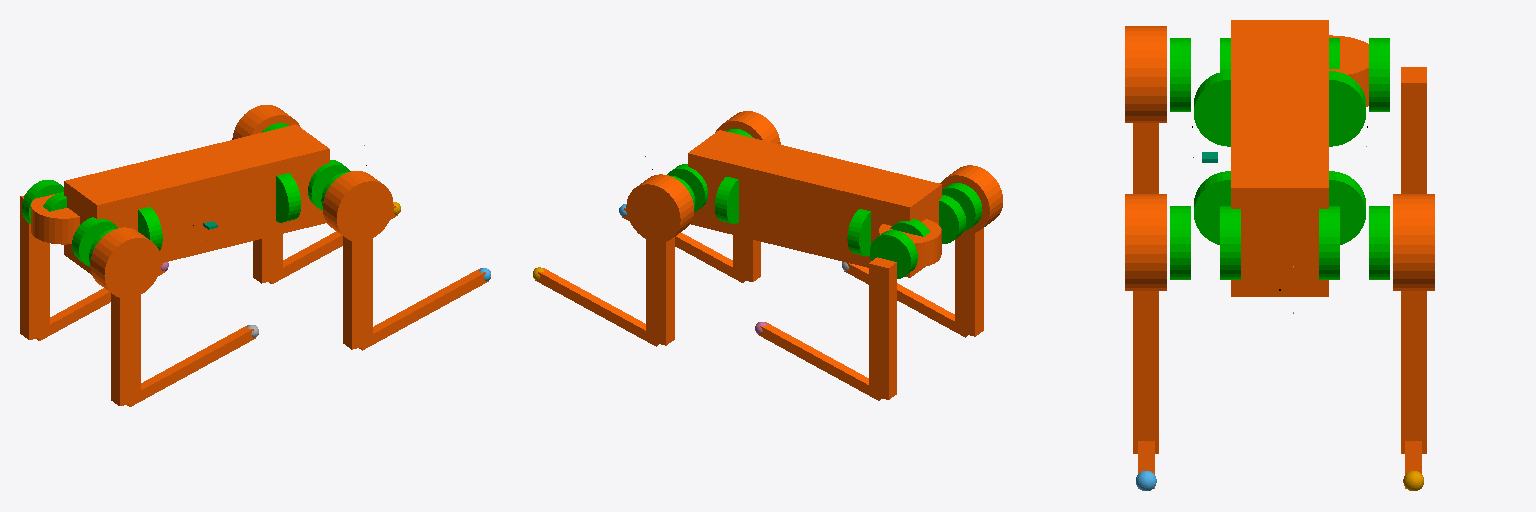
--- Facts derived from the render (not from the file) ---
The picture shows the robot from 3 angles, left to right: view 1: azimuth 30°, elevation 25°; view 2: azimuth 150°, elevation 25°; view 3: azimuth 270°, elevation 25°; orthographic projection.
Robot: robot — 46 links, 45 joints (12 revolute, 33 fixed); root link base; default pose: all joints at 0 but 4 set to mid-range because 0 is outside their limits (RF_KFE = -1.85, LF_KFE = -1.85, RH_KFE = -1.85, LH_KFE = -1.85).
Visible links, largest first — view 1: trunk, RR_hip, FR_hip, RL_thigh, FR_thigh, RR_thigh, FR_calf, RR_calf, RL_hip, FL_thigh, FL_hip, RL_calf (+6 smaller); view 2: trunk, RL_thigh, FL_hip, FL_thigh, RR_thigh, RL_calf, FL_calf, RR_hip, RL_calf_rotor, RR_calf, FR_thigh, RL_hip (+7 smaller); view 3: trunk, FR_hip, FL_hip, RR_hip, FR_thigh, FL_thigh, RL_thigh, RR_hip_rotor, RL_hip_rotor, RR_thigh, FR_hip_rotor, FL_hip_rotor (+9 smaller).
Boxes of the visible links, x1=… form: trunk: x1=64, y1=124, x2=329, y2=274; RR_hip: x1=90, y1=227, x2=160, y2=298; FR_hip: x1=323, y1=171, x2=393, y2=241; RL_thigh: x1=20, y1=195, x2=49, y2=339; FR_thigh: x1=343, y1=236, x2=372, y2=349; RR_thigh: x1=111, y1=293, x2=140, y2=405; FR_calf: x1=359, y1=268, x2=488, y2=350; RR_calf: x1=127, y1=325, x2=255, y2=406; RL_hip: x1=31, y1=193, x2=79, y2=244; FL_thigh: x1=253, y1=234, x2=282, y2=283; FL_hip: x1=232, y1=105, x2=299, y2=139; RL_calf: x1=37, y1=263, x2=165, y2=340; trunk: x1=688, y1=130, x2=941, y2=277; RL_thigh: x1=869, y1=257, x2=896, y2=399; FL_hip: x1=626, y1=174, x2=693, y2=242; FL_thigh: x1=646, y1=237, x2=674, y2=345; RR_thigh: x1=955, y1=228, x2=983, y2=336; RL_calf: x1=758, y1=322, x2=881, y2=400; FL_calf: x1=535, y1=268, x2=658, y2=346; RR_hip: x1=940, y1=165, x2=1002, y2=233; RL_calf_rotor: x1=870, y1=230, x2=917, y2=278; RR_calf: x1=844, y1=263, x2=967, y2=337; FR_thigh: x1=733, y1=235, x2=760, y2=281; RL_hip: x1=879, y1=219, x2=941, y2=267; trunk: x1=1231, y1=20, x2=1328, y2=296; FR_hip: x1=1125, y1=194, x2=1166, y2=290; FL_hip: x1=1393, y1=194, x2=1434, y2=290; RR_hip: x1=1125, y1=26, x2=1166, y2=122; FR_thigh: x1=1133, y1=291, x2=1158, y2=453; FL_thigh: x1=1401, y1=291, x2=1426, y2=453; RL_thigh: x1=1401, y1=67, x2=1426, y2=193; RR_hip_rotor: x1=1194, y1=71, x2=1230, y2=146; RL_hip_rotor: x1=1329, y1=71, x2=1365, y2=146; RR_thigh: x1=1133, y1=123, x2=1158, y2=193; FR_hip_rotor: x1=1194, y1=171, x2=1230, y2=244; FL_hip_rotor: x1=1329, y1=171, x2=1365, y2=244.
Bounding box of the posed robot: 0.6367 × 0.2935 × 0.2777 m (x, y, z).
Geometry: primitives only (box / cylinder / sphere), no mesh files.

The robot description file, URDF, robot "robot":
<?xml version="1.0" ?>
<!-- =================================================================================== -->
<!-- |    This document was autogenerated by xacro from [local-path]/test_ocs2_legged/src/legged_control/legged_examples/legged_unitree/go1_description/xacro/robot.xacro | -->
<!-- |    EDITING THIS FILE BY HAND IS NOT RECOMMENDED                                 | -->
<!-- =================================================================================== -->
<robot name="robot">
  <material name="black">
    <color rgba="0.0 0.0 0.0 1.0"/>
  </material>
  <material name="blue">
    <color rgba="0.0 0.0 0.8 1.0"/>
  </material>
  <material name="green">
    <color rgba="0.0 0.8 0.0 1.0"/>
  </material>
  <material name="grey">
    <color rgba="0.2 0.2 0.2 1.0"/>
  </material>
  <material name="silver">
    <color rgba="0.9137254901960784 0.9137254901960784 0.8470588235294118 1.0"/>
  </material>
  <material name="orange">
    <color rgba="1.0 0.4235294117647059 0.0392156862745098 1.0"/>
  </material>
  <material name="brown">
    <color rgba="0.8705882352941177 0.8117647058823529 0.7647058823529411 1.0"/>
  </material>
  <material name="red">
    <color rgba="0.8 0.0 0.0 1.0"/>
  </material>
  <material name="white">
    <color rgba="1.0 1.0 1.0 1.0"/>
  </material>
  <!-- ros_control plugin -->
  <gazebo>
    <plugin filename="liblegged_hw_sim.so" name="gazebo_ros_control">
      <robotNamespace>/</robotNamespace>
      <robotParam>legged_robot_description</robotParam>
      <robotSimType>legged_gazebo/LeggedHWSim</robotSimType>
    </plugin>
  </gazebo>
  <gazebo>
    <plugin filename="libgazebo_ros_p3d.so" name="p3d_base_controller">
      <alwaysOn>true</alwaysOn>
      <updateRate>1000.0</updateRate>
      <bodyName>base</bodyName>
      <topicName>ground_truth/state</topicName>
      <gaussianNoise>0</gaussianNoise>
      <frameName>world</frameName>
      <xyzOffsets>0 0 0</xyzOffsets>
      <rpyOffsets>0 0 0</rpyOffsets>
    </plugin>
  </gazebo>
  <gazebo reference="base">
    <material>Gazebo/Green</material>
    <turnGravityOff>false</turnGravityOff>
  </gazebo>
  <gazebo reference="trunk">
    <mu1>0.2</mu1>
    <mu2>0.2</mu2>
    <kp value="1000000.0"/>
    <kd value="1.0"/>
  </gazebo>
  <gazebo reference="stick_link">
    <mu1>0.2</mu1>
    <mu2>0.2</mu2>
    <material>Gazebo/White</material>
  </gazebo>
  <gazebo reference="unitree_imu">
    <mu1>0.2</mu1>
    <mu2>0.2</mu2>
    <material>Gazebo/Red</material>
  </gazebo>
  <!-- FL leg -->
  <gazebo reference="FL_hip">
    <mu1>0.2</mu1>
    <mu2>0.2</mu2>
    <material>Gazebo/DarkGrey</material>
  </gazebo>
  <gazebo reference="FL_thigh">
    <mu1>0.2</mu1>
    <mu2>0.2</mu2>
    <self_collide>1</self_collide>
    <material>Gazebo/DarkGrey</material>
    <kp value="1000000.0"/>
    <kd value="1.0"/>
  </gazebo>
  <gazebo reference="FL_calf">
    <mu1>0.2</mu1>
    <mu2>0.2</mu2>
    <self_collide>1</self_collide>
  </gazebo>
  <gazebo reference="LF_FOOT">
    <mu1>0.6</mu1>
    <mu2>0.6</mu2>
    <self_collide>1</self_collide>
    <material>Gazebo/DarkGrey</material>
    <kp value="1000000.0"/>
    <kd value="100.0"/>
  </gazebo>
  <!-- FR leg -->
  <gazebo reference="FR_hip">
    <mu1>0.2</mu1>
    <mu2>0.2</mu2>
    <material>Gazebo/DarkGrey</material>
  </gazebo>
  <gazebo reference="FR_thigh">
    <mu1>0.2</mu1>
    <mu2>0.2</mu2>
    <self_collide>1</self_collide>
    <material>Gazebo/DarkGrey</material>
    <kp value="1000000.0"/>
    <kd value="1.0"/>
  </gazebo>
  <gazebo reference="FR_calf">
    <mu1>0.2</mu1>
    <mu2>0.2</mu2>
    <self_collide>1</self_collide>
  </gazebo>
  <gazebo reference="RF_FOOT">
    <mu1>0.6</mu1>
    <mu2>0.6</mu2>
    <self_collide>1</self_collide>
    <material>Gazebo/DarkGrey</material>
    <kp value="1000000.0"/>
    <kd value="100.0"/>
  </gazebo>
  <!-- RL leg -->
  <gazebo reference="RL_hip">
    <mu1>0.2</mu1>
    <mu2>0.2</mu2>
    <material>Gazebo/DarkGrey</material>
  </gazebo>
  <gazebo reference="RL_thigh">
    <mu1>0.2</mu1>
    <mu2>0.2</mu2>
    <self_collide>1</self_collide>
    <material>Gazebo/DarkGrey</material>
    <kp value="1000000.0"/>
    <kd value="1.0"/>
  </gazebo>
  <gazebo reference="RL_calf">
    <mu1>0.2</mu1>
    <mu2>0.2</mu2>
    <self_collide>1</self_collide>
  </gazebo>
  <gazebo reference="LH_FOOT">
    <mu1>0.6</mu1>
    <mu2>0.6</mu2>
    <self_collide>1</self_collide>
    <material>Gazebo/DarkGrey</material>
    <kp value="1000000.0"/>
    <kd value="100.0"/>
  </gazebo>
  <!-- RR leg -->
  <gazebo reference="RR_hip">
    <mu1>0.2</mu1>
    <mu2>0.2</mu2>
    <material>Gazebo/DarkGrey</material>
  </gazebo>
  <gazebo reference="RR_thigh">
    <mu1>0.2</mu1>
    <mu2>0.2</mu2>
    <self_collide>1</self_collide>
    <material>Gazebo/DarkGrey</material>
    <kp value="1000000.0"/>
    <kd value="1.0"/>
  </gazebo>
  <gazebo reference="RR_calf">
    <mu1>0.2</mu1>
    <mu2>0.2</mu2>
    <self_collide>1</self_collide>
  </gazebo>
  <gazebo reference="RH_FOOT">
    <mu1>0.6</mu1>
    <mu2>0.6</mu2>
    <self_collide>1</self_collide>
    <material>Gazebo/DarkGrey</material>
    <kp value="1000000.0"/>
    <kd value="100.0"/>
  </gazebo>
  <!-- <xacro:include filename="$(find go1_gazebo)/launch/stairs.urdf.xacro"/> -->
  <!-- <xacro:stairs stairs="15" xpos="0" ypos="0" zpos="0" /> -->
  <!-- Rotor related joint and link is only for demonstrate location. -->
  <!-- Actually, the rotor will rotate and the joint is not fixed. Reduction ratio should be considered. -->
  <link name="base">
    <visual>
      <origin rpy="0 0 0" xyz="0 0 0"/>
      <geometry>
        <box size="0.001 0.001 0.001"/>
      </geometry>
    </visual>
  </link>
  <joint name="floating_base" type="fixed">
    <origin rpy="0 0 0" xyz="0 0 0"/>
    <parent link="base"/>
    <child link="trunk"/>
  </joint>
  <link name="trunk">
    <visual>
      <origin rpy="0 0 0" xyz="0 0 0"/>
      <geometry>
        <!-- <mesh filename="package://go1_description/meshes/trunk.dae" scale="1 1 1"/> -->
        <box size="0.3762 0.0935 0.114"/>
      </geometry>
      <material name="orange"/>
    </visual>
    <collision>
      <origin rpy="0 0 0" xyz="0 0 0"/>
      <geometry>
        <box size="0.3762 0.0935 0.114"/>
      </geometry>
    </collision>
    <inertial>
      <origin rpy="0 0 0" xyz="0.0223 0.002 -0.0005"/>
      <mass value="5.204"/>
      <inertia ixx="0.0168128557" ixy="-0.0002296769" ixz="-0.0002945293" iyy="0.063009565" iyz="-4.18731e-05" izz="0.0716547275"/>
    </inertial>
  </link>
  <joint name="unitree_imu_joint" type="fixed">
    <parent link="trunk"/>
    <child link="unitree_imu"/>
    <origin rpy="0 0 0" xyz="-0.01592 -0.06659 -0.00617"/>
  </joint>
  <link name="unitree_imu">
    <inertial>
      <mass value="0.001"/>
      <origin rpy="0 0 0" xyz="0 0 0"/>
      <inertia ixx="0.000001" ixy="0" ixz="0" iyy="0.000001" iyz="0" izz="0.000001"/>
    </inertial>
    <visual>
      <origin rpy="0 0 0" xyz="0 0 0"/>
      <geometry>
        <box size="0.015 0.015 0.004"/>
      </geometry>
    </visual>
    <material name="orange">
      <color rgba="255 108 10 255"/>
    </material>
  </link>
  <gazebo reference="unitree_imu">
    <material>Gazebo/Orange</material>
  </gazebo>
  <gazebo reference="unitree_imu_joint">
    <disableFixedJointLumping>true</disableFixedJointLumping>
  </gazebo>
  <joint name="RF_HAA" type="revolute">
    <origin rpy="0 0 0" xyz="0.1881 -0.04675 0"/>
    <parent link="trunk"/>
    <child link="FR_hip"/>
    <axis xyz="1 0 0"/>
    <dynamics damping="0.01" friction="0.2"/>
    <limit effort="23.7" lower="-0.863" upper="0.863" velocity="30.1"/>
  </joint>
  <joint name="FR_hip_rotor_joint" type="fixed">
    <origin rpy="0 0 0" xyz="0.11215 -0.04675 0"/>
    <parent link="trunk"/>
    <child link="FR_hip_rotor"/>
  </joint>
  <link name="FR_hip">
    <visual>
      <!-- <origin rpy="3.141592653589793 0 0" xyz="0 0 0"/> -->
      <origin rpy="1.5707963267948966 0 0" xyz="0 -0.08 0"/>
      <geometry>
        <!-- <mesh filename="package://go1_description/meshes/hip.dae" scale="1 1 1"/> -->
        <cylinder length="0.04" radius="0.046"/>
      </geometry>
      <material name="orange"/>
    </visual>
    <collision>
      <origin rpy="1.5707963267948966 0 0" xyz="0 -0.08 0"/>
      <geometry>
        <cylinder length="0.04" radius="0.046"/>
      </geometry>
    </collision>
    <inertial>
      <origin rpy="0 0 0" xyz="-0.005657 0.008752 -0.000102"/>
      <mass value="0.591"/>
      <inertia ixx="0.000334008405" ixy="1.0826066e-05" ixz="1.290732e-06" iyy="0.000619101213" iyz="-1.643194e-06" izz="0.00040057614"/>
    </inertial>
  </link>
  <link name="FR_hip_rotor">
    <visual>
      <origin rpy="0 1.5707963267948966 0" xyz="0 0 0"/>
      <geometry>
        <cylinder length="0.02" radius="0.035"/>
      </geometry>
      <material name="green"/>
    </visual>
    <!-- <collision>
                <origin rpy="0 ${PI/2.0} 0" xyz="0 0 0"/>
                <geometry>
                    <cylinder length="0.02" radius="0.035"/>
                </geometry>
            </collision> -->
    <inertial>
      <origin rpy="0 0 0" xyz="0.0 0.0 0.0"/>
      <mass value="0.089"/>
      <inertia ixx="0.000111842" ixy="0.0" ixz="0.0" iyy="5.9647e-05" iyz="0.0" izz="5.9647e-05"/>
    </inertial>
  </link>
  <joint name="RF_HFE" type="revolute">
    <origin rpy="0 0 0" xyz="0 -0.08 0"/>
    <parent link="FR_hip"/>
    <child link="FR_thigh"/>
    <axis xyz="0 1 0"/>
    <dynamics damping="0.01" friction="0.2"/>
    <limit effort="23.7" lower="-0.686" upper="4.501" velocity="30.1"/>
  </joint>
  <joint name="FR_thigh_rotor_joint" type="fixed">
    <origin rpy="0 0 0" xyz="0.0 0.00015 0"/>
    <parent link="FR_hip"/>
    <child link="FR_thigh_rotor"/>
  </joint>
  <link name="FR_thigh">
    <visual>
      <!-- <origin rpy="0 0 0" xyz="0 0 0"/> -->
      <origin rpy="0 1.5707963267948966 0" xyz="0 0 -0.1065"/>
      <geometry>
        <!-- <mesh filename="package://go1_description/meshes/thigh_mirror.dae" scale="1 1 1"/> -->
        <box size="0.213 0.0245 0.034"/>
      </geometry>
      <material name="orange"/>
    </visual>
    <collision>
      <origin rpy="0 1.5707963267948966 0" xyz="0 0 -0.1065"/>
      <geometry>
        <box size="0.213 0.0245 0.034"/>
      </geometry>
    </collision>
    <inertial>
      <origin rpy="0 0 0" xyz="-0.003342 0.018054 -0.033451"/>
      <mass value="0.92"/>
      <inertia ixx="0.004431760472" ixy="-5.7496807e-05" ixz="-0.000218457134" iyy="0.004485671726" iyz="-0.000572001265" izz="0.000740309489"/>
    </inertial>
  </link>
  <link name="FR_thigh_rotor">
    <visual>
      <origin rpy="1.5707963267948966 0 0" xyz="0 0 0"/>
      <geometry>
        <cylinder length="0.02" radius="0.035"/>
      </geometry>
      <material name="green"/>
    </visual>
    <!-- <collision>
                <origin rpy="${PI/2.0} 0 0" xyz="0 0 0"/>
                <geometry>
                    <cylinder length="0.02" radius="0.035"/>
                </geometry>
            </collision> -->
    <inertial>
      <origin rpy="0 0 0" xyz="0.0 0.0 0.0"/>
      <mass value="0.089"/>
      <inertia ixx="5.9647e-05" ixy="0.0" ixz="0.0" iyy="0.000111842" iyz="0.0" izz="5.9647e-05"/>
    </inertial>
  </link>
  <joint name="RF_KFE" type="revolute">
    <origin rpy="0 0 0" xyz="0 0 -0.213"/>
    <parent link="FR_thigh"/>
    <child link="FR_calf"/>
    <axis xyz="0 1 0"/>
    <dynamics damping="0.01" friction="0.2"/>
    <limit effort="35.55" lower="-2.818" upper="-0.888" velocity="20.06"/>
  </joint>
  <joint name="FR_calf_rotor_joint" type="fixed">
    <origin rpy="0 0 0" xyz="0.0 0.03235 0"/>
    <parent link="FR_thigh"/>
    <child link="FR_calf_rotor"/>
  </joint>
  <link name="FR_calf">
    <visual>
      <!-- <origin rpy="0 0 0" xyz="0 0 0"/> -->
      <origin rpy="0 1.5707963267948966 0" xyz="0 0 -0.1065"/>
      <geometry>
        <!-- <mesh filename="package://go1_description/meshes/calf.dae" scale="1 1 1"/> -->
        <box size="0.213 0.016 0.016"/>
      </geometry>
      <material name="orange"/>
    </visual>
    <collision>
      <origin rpy="0 1.5707963267948966 0" xyz="0 0 -0.1065"/>
      <geometry>
        <box size="0.213 0.016 0.016"/>
      </geometry>
    </collision>
    <inertial>
      <origin rpy="0 0 0" xyz="0.006197 0.001408 -0.116695"/>
      <mass value="0.135862"/>
      <inertia ixx="0.001088793059" ixy="-2.55679e-07" ixz="7.117814e-06" iyy="0.001100428748" iyz="2.077264e-06" izz="2.4787446e-05"/>
    </inertial>
  </link>
  <link name="FR_calf_rotor">
    <visual>
      <origin rpy="1.5707963267948966 0 0" xyz="0 0 0"/>
      <geometry>
        <cylinder length="0.02" radius="0.035"/>
      </geometry>
      <material name="green"/>
    </visual>
    <!-- <collision>
                <origin rpy="${PI/2.0} 0 0" xyz="0 0 0"/>
                <geometry>
                    <cylinder length="0.02" radius="0.035"/>
                </geometry>
            </collision> -->
    <inertial>
      <origin rpy="0 0 0" xyz="0.0 0.0 0.0"/>
      <mass value="0.089"/>
      <inertia ixx="5.9647e-05" ixy="0.0" ixz="0.0" iyy="0.000111842" iyz="0.0" izz="5.9647e-05"/>
    </inertial>
  </link>
  <joint name="FR_foot_fixed" type="fixed">
    <origin rpy="0 0 0" xyz="0 0 -0.213"/>
    <parent link="FR_calf"/>
    <child link="RF_FOOT"/>
  </joint>
  <link name="RF_FOOT">
    <visual>
      <origin rpy="0 0 0" xyz="0 0 0"/>
      <geometry>
        <sphere radius="0.01"/>
      </geometry>
      <!-- <material name="orange"/> -->
    </visual>
    <collision>
      <origin rpy="0 0 0" xyz="0 0 0"/>
      <geometry>
        <sphere radius="0.02"/>
      </geometry>
    </collision>
    <inertial>
      <mass value="0.06"/>
      <inertia ixx="9.600000000000001e-06" ixy="0.0" ixz="0.0" iyy="9.600000000000001e-06" iyz="0.0" izz="9.600000000000001e-06"/>
    </inertial>
  </link>
  <transmission name="RF_HAA_tran">
    <type>transmission_interface/SimpleTransmission</type>
    <joint name="RF_HAA">
      <hardwareInterface>hardware_interface/EffortJointInterface</hardwareInterface>
    </joint>
    <actuator name="RF_HAA_motor">
      <hardwareInterface>hardware_interface/EffortJointInterface</hardwareInterface>
      <mechanicalReduction>1</mechanicalReduction>
    </actuator>
  </transmission>
  <transmission name="RF_HFE_tran">
    <type>transmission_interface/SimpleTransmission</type>
    <joint name="RF_HFE">
      <hardwareInterface>hardware_interface/EffortJointInterface</hardwareInterface>
    </joint>
    <actuator name="RF_HFE_motor">
      <hardwareInterface>hardware_interface/EffortJointInterface</hardwareInterface>
      <mechanicalReduction>1</mechanicalReduction>
    </actuator>
  </transmission>
  <transmission name="RF_KFE_tran">
    <type>transmission_interface/SimpleTransmission</type>
    <joint name="RF_KFE">
      <hardwareInterface>hardware_interface/EffortJointInterface</hardwareInterface>
    </joint>
    <actuator name="RF_KFE_motor">
      <hardwareInterface>hardware_interface/EffortJointInterface</hardwareInterface>
      <mechanicalReduction>1</mechanicalReduction>
    </actuator>
  </transmission>
  <joint name="LF_HAA" type="revolute">
    <origin rpy="0 0 0" xyz="0.1881 0.04675 0"/>
    <parent link="trunk"/>
    <child link="FL_hip"/>
    <axis xyz="1 0 0"/>
    <dynamics damping="0.01" friction="0.2"/>
    <limit effort="23.7" lower="-0.863" upper="0.863" velocity="30.1"/>
  </joint>
  <joint name="FL_hip_rotor_joint" type="fixed">
    <origin rpy="0 0 0" xyz="0.11215 0.04675 0"/>
    <parent link="trunk"/>
    <child link="FL_hip_rotor"/>
  </joint>
  <link name="FL_hip">
    <visual>
      <!-- <origin rpy="0 0 0" xyz="0 0 0"/> -->
      <origin rpy="1.5707963267948966 0 0" xyz="0 0.08 0"/>
      <geometry>
        <!-- <mesh filename="package://go1_description/meshes/hip.dae" scale="1 1 1"/> -->
        <cylinder length="0.04" radius="0.046"/>
      </geometry>
      <material name="orange"/>
    </visual>
    <collision>
      <origin rpy="1.5707963267948966 0 0" xyz="0 0.08 0"/>
      <geometry>
        <cylinder length="0.04" radius="0.046"/>
      </geometry>
    </collision>
    <inertial>
      <origin rpy="0 0 0" xyz="-0.005657 -0.008752 -0.000102"/>
      <mass value="0.591"/>
      <inertia ixx="0.000334008405" ixy="-1.0826066e-05" ixz="1.290732e-06" iyy="0.000619101213" iyz="1.643194e-06" izz="0.00040057614"/>
    </inertial>
  </link>
  <link name="FL_hip_rotor">
    <visual>
      <origin rpy="0 1.5707963267948966 0" xyz="0 0 0"/>
      <geometry>
        <cylinder length="0.02" radius="0.035"/>
      </geometry>
      <material name="green"/>
    </visual>
    <!-- <collision>
                <origin rpy="0 ${PI/2.0} 0" xyz="0 0 0"/>
                <geometry>
                    <cylinder length="0.02" radius="0.035"/>
                </geometry>
            </collision> -->
    <inertial>
      <origin rpy="0 0 0" xyz="0.0 0.0 0.0"/>
      <mass value="0.089"/>
      <inertia ixx="0.000111842" ixy="0.0" ixz="0.0" iyy="5.9647e-05" iyz="0.0" izz="5.9647e-05"/>
    </inertial>
  </link>
  <joint name="LF_HFE" type="revolute">
    <origin rpy="0 0 0" xyz="0 0.08 0"/>
    <parent link="FL_hip"/>
    <child link="FL_thigh"/>
    <axis xyz="0 1 0"/>
    <dynamics damping="0.01" friction="0.2"/>
    <limit effort="23.7" lower="-0.686" upper="4.501" velocity="30.1"/>
  </joint>
  <joint name="FL_thigh_rotor_joint" type="fixed">
    <origin rpy="0 0 0" xyz="0.0 -0.00015 0"/>
    <parent link="FL_hip"/>
    <child link="FL_thigh_rotor"/>
  </joint>
  <link name="FL_thigh">
    <visual>
      <!-- <origin rpy="0 0 0" xyz="0 0 0"/> -->
      <origin rpy="0 1.5707963267948966 0" xyz="0 0 -0.1065"/>
      <geometry>
        <!-- <mesh filename="package://go1_description/meshes/thigh.dae" scale="1 1 1"/> -->
        <box size="0.213 0.0245 0.034"/>
      </geometry>
      <material name="orange"/>
    </visual>
    <collision>
      <origin rpy="0 1.5707963267948966 0" xyz="0 0 -0.1065"/>
      <geometry>
        <box size="0.213 0.0245 0.034"/>
      </geometry>
    </collision>
    <inertial>
      <origin rpy="0 0 0" xyz="-0.003342 -0.018054 -0.033451"/>
      <mass value="0.92"/>
      <inertia ixx="0.004431760472" ixy="5.7496807e-05" ixz="-0.000218457134" iyy="0.004485671726" iyz="0.000572001265" izz="0.000740309489"/>
    </inertial>
  </link>
  <link name="FL_thigh_rotor">
    <visual>
      <origin rpy="1.5707963267948966 0 0" xyz="0 0 0"/>
      <geometry>
        <cylinder length="0.02" radius="0.035"/>
      </geometry>
      <material name="green"/>
    </visual>
    <!-- <collision>
                <origin rpy="${PI/2.0} 0 0" xyz="0 0 0"/>
                <geometry>
                    <cylinder length="0.02" radius="0.035"/>
                </geometry>
            </collision> -->
    <inertial>
      <origin rpy="0 0 0" xyz="0.0 0.0 0.0"/>
      <mass value="0.089"/>
      <inertia ixx="5.9647e-05" ixy="0.0" ixz="0.0" iyy="0.000111842" iyz="0.0" izz="5.9647e-05"/>
    </inertial>
  </link>
  <joint name="LF_KFE" type="revolute">
    <origin rpy="0 0 0" xyz="0 0 -0.213"/>
    <parent link="FL_thigh"/>
    <child link="FL_calf"/>
    <axis xyz="0 1 0"/>
    <dynamics damping="0.01" friction="0.2"/>
    <limit effort="35.55" lower="-2.818" upper="-0.888" velocity="20.06"/>
  </joint>
  <joint name="FL_calf_rotor_joint" type="fixed">
    <origin rpy="0 0 0" xyz="0.0 -0.03235 0"/>
    <parent link="FL_thigh"/>
    <child link="FL_calf_rotor"/>
  </joint>
  <link name="FL_calf">
    <visual>
      <!-- <origin rpy="0 0 0" xyz="0 0 0"/> -->
      <origin rpy="0 1.5707963267948966 0" xyz="0 0 -0.1065"/>
      <geometry>
        <!-- <mesh filename="package://go1_description/meshes/calf.dae" scale="1 1 1"/> -->
        <box size="0.213 0.016 0.016"/>
      </geometry>
      <material name="orange"/>
    </visual>
    <collision>
      <origin rpy="0 1.5707963267948966 0" xyz="0 0 -0.1065"/>
      <geometry>
        <box size="0.213 0.016 0.016"/>
      </geometry>
    </collision>
    <inertial>
      <origin rpy="0 0 0" xyz="0.006197 0.001408 -0.116695"/>
      <mass value="0.135862"/>
      <inertia ixx="0.001088793059" ixy="-2.55679e-07" ixz="7.117814e-06" iyy="0.001100428748" iyz="2.077264e-06" izz="2.4787446e-05"/>
    </inertial>
  </link>
  <link name="FL_calf_rotor">
    <visual>
      <origin rpy="1.5707963267948966 0 0" xyz="0 0 0"/>
      <geometry>
        <cylinder length="0.02" radius="0.035"/>
      </geometry>
      <material name="green"/>
    </visual>
    <!-- <collision>
                <origin rpy="${PI/2.0} 0 0" xyz="0 0 0"/>
                <geometry>
                    <cylinder length="0.02" radius="0.035"/>
                </geometry>
            </collision> -->
    <inertial>
      <origin rpy="0 0 0" xyz="0.0 0.0 0.0"/>
      <mass value="0.089"/>
      <inertia ixx="5.9647e-05" ixy="0.0" ixz="0.0" iyy="0.000111842" iyz="0.0" izz="5.9647e-05"/>
    </inertial>
  </link>
  <joint name="FL_foot_fixed" type="fixed">
    <origin rpy="0 0 0" xyz="0 0 -0.213"/>
    <parent link="FL_calf"/>
    <child link="LF_FOOT"/>
  </joint>
  <link name="LF_FOOT">
    <visual>
      <origin rpy="0 0 0" xyz="0 0 0"/>
      <geometry>
        <sphere radius="0.01"/>
      </geometry>
      <!-- <material name="orange"/> -->
    </visual>
    <collision>
      <origin rpy="0 0 0" xyz="0 0 0"/>
      <geometry>
        <sphere radius="0.02"/>
      </geometry>
    </collision>
    <inertial>
      <mass value="0.06"/>
      <inertia ixx="9.600000000000001e-06" ixy="0.0" ixz="0.0" iyy="9.600000000000001e-06" iyz="0.0" izz="9.600000000000001e-06"/>
    </inertial>
  </link>
  <transmission name="LF_HAA_tran">
    <type>transmission_interface/SimpleTransmission</type>
    <joint name="LF_HAA">
      <hardwareInterface>hardware_interface/EffortJointInterface</hardwareInterface>
    </joint>
    <actuator name="LF_HAA_motor">
      <hardwareInterface>hardware_interface/EffortJointInterface</hardwareInterface>
      <mechanicalReduction>1</mechanicalReduction>
    </actuator>
  </transmission>
  <transmission name="LF_HFE_tran">
    <type>transmission_interface/SimpleTransmission</type>
    <joint name="LF_HFE">
      <hardwareInterface>hardware_interface/EffortJointInterface</hardwareInterface>
    </joint>
    <actuator name="LF_HFE_motor">
      <hardwareInterface>hardware_interface/EffortJointInterface</hardwareInterface>
      <mechanicalReduction>1</mechanicalReduction>
    </actuator>
  </transmission>
  <transmission name="LF_KFE_tran">
    <type>transmission_interface/SimpleTransmission</type>
    <joint name="LF_KFE">
      <hardwareInterface>hardware_interface/EffortJointInterface</hardwareInterface>
    </joint>
    <actuator name="LF_KFE_motor">
      <hardwareInterface>hardware_interface/EffortJointInterface</hardwareInterface>
      <mechanicalReduction>1</mechanicalReduction>
    </actuator>
  </transmission>
  <joint name="RH_HAA" type="revolute">
    <origin rpy="0 0 0" xyz="-0.1881 -0.04675 0"/>
    <parent link="trunk"/>
    <child link="RR_hip"/>
    <axis xyz="1 0 0"/>
    <dynamics damping="0.01" friction="0.2"/>
    <limit effort="23.7" lower="-0.863" upper="0.863" velocity="30.1"/>
  </joint>
  <joint name="RR_hip_rotor_joint" type="fixed">
    <origin rpy="0 0 0" xyz="-0.11215 -0.04675 0"/>
    <parent link="trunk"/>
    <child link="RR_hip_rotor"/>
  </joint>
  <link name="RR_hip">
    <visual>
      <!-- <origin rpy="3.141592653589793 3.141592653589793 0" xyz="0 0 0"/> -->
      <origin rpy="1.5707963267948966 0 0" xyz="0 -0.08 0"/>
      <geometry>
        <!-- <mesh filename="package://go1_description/meshes/hip.dae" scale="1 1 1"/> -->
        <cylinder length="0.04" radius="0.046"/>
      </geometry>
      <material name="orange"/>
    </visual>
    <collision>
      <origin rpy="1.5707963267948966 0 0" xyz="0 -0.08 0"/>
      <geometry>
        <cylinder length="0.04" radius="0.046"/>
      </geometry>
    </collision>
    <inertial>
      <origin rpy="0 0 0" xyz="0.005657 0.008752 -0.000102"/>
      <mass value="0.591"/>
      <inertia ixx="0.000334008405" ixy="-1.0826066e-05" ixz="-1.290732e-06" iyy="0.000619101213" iyz="-1.643194e-06" izz="0.00040057614"/>
    </inertial>
  </link>
  <link name="RR_hip_rotor">
    <visual>
      <origin rpy="0 1.5707963267948966 0" xyz="0 0 0"/>
      <geometry>
        <cylinder length="0.02" radius="0.035"/>
      </geometry>
      <material name="green"/>
    </visual>
    <!-- <collision>
                <origin rpy="0 ${PI/2.0} 0" xyz="0 0 0"/>
                <geometry>
                    <cylinder length="0.02" radius="0.035"/>
                </geometry>
            </collision> -->
    <inertial>
      <origin rpy="0 0 0" xyz="0.0 0.0 0.0"/>
      <mass value="0.089"/>
      <inertia ixx="0.000111842" ixy="0.0" ixz="0.0" iyy="5.9647e-05" iyz="0.0" izz="5.9647e-05"/>
    </inertial>
  </link>
  <joint name="RH_HFE" type="revolute">
    <origin rpy="0 0 0" xyz="0 -0.08 0"/>
    <parent link="RR_hip"/>
    <child link="RR_thigh"/>
    <axis xyz="0 1 0"/>
    <dynamics damping="0.01" friction="0.2"/>
    <limit effort="23.7" lower="-0.686" upper="4.501" velocity="30.1"/>
  </joint>
  <joint name="RR_thigh_rotor_joint" type="fixed">
    <origin rpy="0 0 0" xyz="0.0 0.00015 0"/>
    <parent link="RR_hip"/>
    <child link="RR_thigh_rotor"/>
  </joint>
  <link name="RR_thigh">
    <visual>
      <!-- <origin rpy="0 0 0" xyz="0 0 0"/> -->
      <origin rpy="0 1.5707963267948966 0" xyz="0 0 -0.1065"/>
      <geometry>
        <!-- <mesh filename="package://go1_description/meshes/thigh_mirror.dae" scale="1 1 1"/> -->
        <box size="0.213 0.0245 0.034"/>
      </geometry>
      <material name="orange"/>
    </visual>
    <collision>
      <origin rpy="0 1.5707963267948966 0" xyz="0 0 -0.1065"/>
      <geometry>
        <box size="0.213 0.0245 0.034"/>
      </geometry>
    </collision>
    <inertial>
      <origin rpy="0 0 0" xyz="-0.003342 0.018054 -0.033451"/>
      <mass value="0.92"/>
      <inertia ixx="0.004431760472" ixy="-5.7496807e-05" ixz="-0.000218457134" iyy="0.004485671726" iyz="-0.000572001265" izz="0.000740309489"/>
    </inertial>
  </link>
  <link name="RR_thigh_rotor">
    <visual>
      <origin rpy="1.5707963267948966 0 0" xyz="0 0 0"/>
      <geometry>
        <cylinder length="0.02" radius="0.035"/>
      </geometry>
      <material name="green"/>
    </visual>
    <!-- <collision>
                <origin rpy="${PI/2.0} 0 0" xyz="0 0 0"/>
                <geometry>
                    <cylinder length="0.02" radius="0.035"/>
                </geometry>
            </collision> -->
    <inertial>
      <origin rpy="0 0 0" xyz="0.0 0.0 0.0"/>
      <mass value="0.089"/>
      <inertia ixx="5.9647e-05" ixy="0.0" ixz="0.0" iyy="0.000111842" iyz="0.0" izz="5.9647e-05"/>
    </inertial>
  </link>
  <joint name="RH_KFE" type="revolute">
    <origin rpy="0 0 0" xyz="0 0 -0.213"/>
    <parent link="RR_thigh"/>
    <child link="RR_calf"/>
    <axis xyz="0 1 0"/>
    <dynamics damping="0.01" friction="0.2"/>
    <limit effort="35.55" lower="-2.818" upper="-0.888" velocity="20.06"/>
  </joint>
  <joint name="RR_calf_rotor_joint" type="fixed">
    <origin rpy="0 0 0" xyz="0.0 0.03235 0"/>
    <parent link="RR_thigh"/>
    <child link="RR_calf_rotor"/>
  </joint>
  <link name="RR_calf">
    <visual>
      <!-- <origin rpy="0 0 0" xyz="0 0 0"/> -->
      <origin rpy="0 1.5707963267948966 0" xyz="0 0 -0.1065"/>
      <geometry>
        <!-- <mesh filename="package://go1_description/meshes/calf.dae" scale="1 1 1"/> -->
        <box size="0.213 0.016 0.016"/>
      </geometry>
      <material name="orange"/>
    </visual>
    <collision>
      <origin rpy="0 1.5707963267948966 0" xyz="0 0 -0.1065"/>
      <geometry>
        <box size="0.213 0.016 0.016"/>
      </geometry>
    </collision>
    <inertial>
      <origin rpy="0 0 0" xyz="0.006197 0.001408 -0.116695"/>
      <mass value="0.135862"/>
      <inertia ixx="0.001088793059" ixy="-2.55679e-07" ixz="7.117814e-06" iyy="0.001100428748" iyz="2.077264e-06" izz="2.4787446e-05"/>
    </inertial>
  </link>
  <link name="RR_calf_rotor">
    <visual>
      <origin rpy="1.5707963267948966 0 0" xyz="0 0 0"/>
      <geometry>
        <cylinder length="0.02" radius="0.035"/>
      </geometry>
      <material name="green"/>
    </visual>
    <!-- <collision>
                <origin rpy="${PI/2.0} 0 0" xyz="0 0 0"/>
                <geometry>
                    <cylinder length="0.02" radius="0.035"/>
                </geometry>
            </collision> -->
    <inertial>
      <origin rpy="0 0 0" xyz="0.0 0.0 0.0"/>
      <mass value="0.089"/>
      <inertia ixx="5.9647e-05" ixy="0.0" ixz="0.0" iyy="0.000111842" iyz="0.0" izz="5.9647e-05"/>
    </inertial>
  </link>
  <joint name="RR_foot_fixed" type="fixed">
    <origin rpy="0 0 0" xyz="0 0 -0.213"/>
    <parent link="RR_calf"/>
    <child link="RH_FOOT"/>
  </joint>
  <link name="RH_FOOT">
    <visual>
      <origin rpy="0 0 0" xyz="0 0 0"/>
      <geometry>
        <sphere radius="0.01"/>
      </geometry>
      <!-- <material name="orange"/> -->
    </visual>
    <collision>
      <origin rpy="0 0 0" xyz="0 0 0"/>
      <geometry>
        <sphere radius="0.02"/>
      </geometry>
    </collision>
    <inertial>
      <mass value="0.06"/>
      <inertia ixx="9.600000000000001e-06" ixy="0.0" ixz="0.0" iyy="9.600000000000001e-06" iyz="0.0" izz="9.600000000000001e-06"/>
    </inertial>
  </link>
  <transmission name="RH_HAA_tran">
    <type>transmission_interface/SimpleTransmission</type>
    <joint name="RH_HAA">
      <hardwareInterface>hardware_interface/EffortJointInterface</hardwareInterface>
    </joint>
    <actuator name="RH_HAA_motor">
      <hardwareInterface>hardware_interface/EffortJointInterface</hardwareInterface>
      <mechanicalReduction>1</mechanicalReduction>
    </actuator>
  </transmission>
  <transmission name="RH_HFE_tran">
    <type>transmission_interface/SimpleTransmission</type>
    <joint name="RH_HFE">
      <hardwareInterface>hardware_interface/EffortJointInterface</hardwareInterface>
    </joint>
    <actuator name="RH_HFE_motor">
      <hardwareInterface>hardware_interface/EffortJointInterface</hardwareInterface>
      <mechanicalReduction>1</mechanicalReduction>
    </actuator>
  </transmission>
  <transmission name="RH_KFE_tran">
    <type>transmission_interface/SimpleTransmission</type>
    <joint name="RH_KFE">
      <hardwareInterface>hardware_interface/EffortJointInterface</hardwareInterface>
    </joint>
    <actuator name="RH_KFE_motor">
      <hardwareInterface>hardware_interface/EffortJointInterface</hardwareInterface>
      <mechanicalReduction>1</mechanicalReduction>
    </actuator>
  </transmission>
  <joint name="LH_HAA" type="revolute">
    <origin rpy="0 0 0" xyz="-0.1881 0.04675 0"/>
    <parent link="trunk"/>
    <child link="RL_hip"/>
    <axis xyz="1 0 0"/>
    <dynamics damping="0.01" friction="0.2"/>
    <limit effort="23.7" lower="-0.863" upper="0.863" velocity="30.1"/>
  </joint>
  <joint name="RL_hip_rotor_joint" type="fixed">
    <origin rpy="0 0 0" xyz="-0.11215 0.04675 0"/>
    <parent link="trunk"/>
    <child link="RL_hip_rotor"/>
  </joint>
  <link name="RL_hip">
    <visual>
      <origin rpy="0 3.141592653589793 0" xyz="0 0 0"/>
      <geometry>
        <!-- <mesh filename="package://go1_description/meshes/hip.dae" scale="1 1 1"/> -->
        <cylinder length="0.04" radius="0.046"/>
      </geometry>
      <material name="orange"/>
    </visual>
    <collision>
      <origin rpy="1.5707963267948966 0 0" xyz="0 0.08 0"/>
      <geometry>
        <cylinder length="0.04" radius="0.046"/>
      </geometry>
    </collision>
    <inertial>
      <origin rpy="0 0 0" xyz="0.005657 -0.008752 -0.000102"/>
      <mass value="0.591"/>
      <inertia ixx="0.000334008405" ixy="1.0826066e-05" ixz="-1.290732e-06" iyy="0.000619101213" iyz="1.643194e-06" izz="0.00040057614"/>
    </inertial>
  </link>
  <link name="RL_hip_rotor">
    <visual>
      <origin rpy="0 1.5707963267948966 0" xyz="0 0 0"/>
      <geometry>
        <cylinder length="0.02" radius="0.035"/>
      </geometry>
      <material name="green"/>
    </visual>
    <!-- <collision>
                <origin rpy="0 ${PI/2.0} 0" xyz="0 0 0"/>
                <geometry>
                    <cylinder length="0.02" radius="0.035"/>
                </geometry>
            </collision> -->
    <inertial>
      <origin rpy="0 0 0" xyz="0.0 0.0 0.0"/>
      <mass value="0.089"/>
      <inertia ixx="0.000111842" ixy="0.0" ixz="0.0" iyy="5.9647e-05" iyz="0.0" izz="5.9647e-05"/>
    </inertial>
  </link>
  <joint name="LH_HFE" type="revolute">
    <origin rpy="0 0 0" xyz="0 0.08 0"/>
    <parent link="RL_hip"/>
    <child link="RL_thigh"/>
    <axis xyz="0 1 0"/>
    <dynamics damping="0.01" friction="0.2"/>
    <limit effort="23.7" lower="-0.686" upper="4.501" velocity="30.1"/>
  </joint>
  <joint name="RL_thigh_rotor_joint" type="fixed">
    <origin rpy="0 0 0" xyz="0.0 -0.00015 0"/>
    <parent link="RL_hip"/>
    <child link="RL_thigh_rotor"/>
  </joint>
  <link name="RL_thigh">
    <visual>
      <!-- <origin rpy="0 0 0" xyz="0 0 0"/> -->
      <origin rpy="0 1.5707963267948966 0" xyz="0 0 -0.1065"/>
      <geometry>
        <!-- <mesh filename="package://go1_description/meshes/thigh.dae" scale="1 1 1"/> -->
        <box size="0.213 0.0245 0.034"/>
      </geometry>
      <material name="orange"/>
    </visual>
    <collision>
      <origin rpy="0 1.5707963267948966 0" xyz="0 0 -0.1065"/>
      <geometry>
        <box size="0.213 0.0245 0.034"/>
      </geometry>
    </collision>
    <inertial>
      <origin rpy="0 0 0" xyz="-0.003342 -0.018054 -0.033451"/>
      <mass value="0.92"/>
      <inertia ixx="0.004431760472" ixy="5.7496807e-05" ixz="-0.000218457134" iyy="0.004485671726" iyz="0.000572001265" izz="0.000740309489"/>
    </inertial>
  </link>
  <link name="RL_thigh_rotor">
    <visual>
      <origin rpy="1.5707963267948966 0 0" xyz="0 0 0"/>
      <geometry>
        <cylinder length="0.02" radius="0.035"/>
      </geometry>
      <material name="green"/>
    </visual>
    <!-- <collision>
                <origin rpy="${PI/2.0} 0 0" xyz="0 0 0"/>
                <geometry>
                    <cylinder length="0.02" radius="0.035"/>
                </geometry>
            </collision> -->
    <inertial>
      <origin rpy="0 0 0" xyz="0.0 0.0 0.0"/>
      <mass value="0.089"/>
      <inertia ixx="5.9647e-05" ixy="0.0" ixz="0.0" iyy="0.000111842" iyz="0.0" izz="5.9647e-05"/>
    </inertial>
  </link>
  <joint name="LH_KFE" type="revolute">
    <origin rpy="0 0 0" xyz="0 0 -0.213"/>
    <parent link="RL_thigh"/>
    <child link="RL_calf"/>
    <axis xyz="0 1 0"/>
    <dynamics damping="0.01" friction="0.2"/>
    <limit effort="35.55" lower="-2.818" upper="-0.888" velocity="20.06"/>
  </joint>
  <joint name="RL_calf_rotor_joint" type="fixed">
    <origin rpy="0 0 0" xyz="0.0 -0.03235 0"/>
    <parent link="RL_thigh"/>
    <child link="RL_calf_rotor"/>
  </joint>
  <link name="RL_calf">
    <visual>
      <!-- <origin rpy="0 0 0" xyz="0 0 0"/> -->
      <origin rpy="0 1.5707963267948966 0" xyz="0 0 -0.1065"/>
      <geometry>
        <!-- <mesh filename="package://go1_description/meshes/calf.dae" scale="1 1 1"/> -->
        <box size="0.213 0.016 0.016"/>
      </geometry>
      <material name="orange"/>
    </visual>
    <collision>
      <origin rpy="0 1.5707963267948966 0" xyz="0 0 -0.1065"/>
      <geometry>
        <box size="0.213 0.016 0.016"/>
      </geometry>
    </collision>
    <inertial>
      <origin rpy="0 0 0" xyz="0.006197 0.001408 -0.116695"/>
      <mass value="0.135862"/>
      <inertia ixx="0.001088793059" ixy="-2.55679e-07" ixz="7.117814e-06" iyy="0.001100428748" iyz="2.077264e-06" izz="2.4787446e-05"/>
    </inertial>
  </link>
  <link name="RL_calf_rotor">
    <visual>
      <origin rpy="1.5707963267948966 0 0" xyz="0 0 0"/>
      <geometry>
        <cylinder length="0.02" radius="0.035"/>
      </geometry>
      <material name="green"/>
    </visual>
    <!-- <collision>
                <origin rpy="${PI/2.0} 0 0" xyz="0 0 0"/>
                <geometry>
                    <cylinder length="0.02" radius="0.035"/>
                </geometry>
            </collision> -->
    <inertial>
      <origin rpy="0 0 0" xyz="0.0 0.0 0.0"/>
      <mass value="0.089"/>
      <inertia ixx="5.9647e-05" ixy="0.0" ixz="0.0" iyy="0.000111842" iyz="0.0" izz="5.9647e-05"/>
    </inertial>
  </link>
  <joint name="RL_foot_fixed" type="fixed">
    <origin rpy="0 0 0" xyz="0 0 -0.213"/>
    <parent link="RL_calf"/>
    <child link="LH_FOOT"/>
  </joint>
  <link name="LH_FOOT">
    <visual>
      <origin rpy="0 0 0" xyz="0 0 0"/>
      <geometry>
        <sphere radius="0.01"/>
      </geometry>
      <!-- <material name="orange"/> -->
    </visual>
    <collision>
      <origin rpy="0 0 0" xyz="0 0 0"/>
      <geometry>
        <sphere radius="0.02"/>
      </geometry>
    </collision>
    <inertial>
      <mass value="0.06"/>
      <inertia ixx="9.600000000000001e-06" ixy="0.0" ixz="0.0" iyy="9.600000000000001e-06" iyz="0.0" izz="9.600000000000001e-06"/>
    </inertial>
  </link>
  <transmission name="LH_HAA_tran">
    <type>transmission_interface/SimpleTransmission</type>
    <joint name="LH_HAA">
      <hardwareInterface>hardware_interface/EffortJointInterface</hardwareInterface>
    </joint>
    <actuator name="LH_HAA_motor">
      <hardwareInterface>hardware_interface/EffortJointInterface</hardwareInterface>
      <mechanicalReduction>1</mechanicalReduction>
    </actuator>
  </transmission>
  <transmission name="LH_HFE_tran">
    <type>transmission_interface/SimpleTransmission</type>
    <joint name="LH_HFE">
      <hardwareInterface>hardware_interface/EffortJointInterface</hardwareInterface>
    </joint>
    <actuator name="LH_HFE_motor">
      <hardwareInterface>hardware_interface/EffortJointInterface</hardwareInterface>
      <mechanicalReduction>1</mechanicalReduction>
    </actuator>
  </transmission>
  <transmission name="LH_KFE_tran">
    <type>transmission_interface/SimpleTransmission</type>
    <joint name="LH_KFE">
      <hardwareInterface>hardware_interface/EffortJointInterface</hardwareInterface>
    </joint>
    <actuator name="LH_KFE_motor">
      <hardwareInterface>hardware_interface/EffortJointInterface</hardwareInterface>
      <mechanicalReduction>1</mechanicalReduction>
    </actuator>
  </transmission>
  <joint name="camera_joint_face" type="fixed">
    <origin rpy="3.141592653589793 0 0" xyz="0.2785 0.0125 0.0167"/>
    <parent link="trunk"/>
    <child link="camera_face"/>
  </joint>
  <link name="camera_face">
    <collision>
      <origin rpy="0 0 0" xyz="0 0 0"/>
      <geometry>
        <box size=".001 .001 .001"/>
      </geometry>
    </collision>
    <visual>
      <origin rpy="0 0 0" xyz="0 0 0"/>
      <geometry>
        <!-- <mesh filename="package://go1_description/meshes/depthCamera.dae" scale="1 1 1"/> -->
        <box size=".001 .001 .001"/>
      </geometry>
    </visual>
    <inertial>
      <mass value="1e-5"/>
      <origin rpy="0 0 0" xyz="0 0 0"/>
      <inertia ixx="1e-6" ixy="0" ixz="0" iyy="1e-6" iyz="0" izz="1e-6"/>
    </inertial>
  </link>
  <joint name="camera_optical_joint_face" type="fixed">
    <origin rpy="-1.5707963267948966 0 -1.5707963267948966" xyz="0 0 0"/>
    <parent link="camera_face"/>
    <child link="camera_optical_face"/>
  </joint>
  <link name="camera_optical_face">
        </link>
  <gazebo reference="camera_face">
    <!-- <material>Gazebo/Black</material> -->
    <sensor name="camera_face_camera" type="depth">
      <update_rate>16</update_rate>
      <camera>
        <horizontal_fov>2.094</horizontal_fov>
        <image>
          <width>928</width>
          <height>800</height>
          <format>R8G8B8</format>
        </image>
        <clip>
          <near>0.1</near>
          <far>5</far>
        </clip>
      </camera>
      <plugin filename="libgazebo_ros_openni_kinect.so" name="camera_face_controller">
        <baseline>0.025</baseline>
        <alwaysOn>true</alwaysOn>
        <updateRate>0.0</updateRate>
        <cameraName>camera_face_ir</cameraName>
        <imageTopicName>/camera_face/color/image_raw</imageTopicName>
        <cameraInfoTopicName>/camera_face/color/camera_info</cameraInfoTopicName>
        <depthImageTopicName>/camera_face/depth/image_raw</depthImageTopicName>
        <depthImageInfoTopicName>/camera_face/depth/camera_info</depthImageInfoTopicName>
        <!-- <pointCloudTopicName>/camera_${name}/depth/points</pointCloudTopicName> -->
        <pointCloudTopicName>/cam1/point_cloud_face</pointCloudTopicName>
        <frameName>camera_optical_face</frameName>
        <pointCloudCutoff>0.1</pointCloudCutoff>
        <pointCloudCutoffMax>1.5</pointCloudCutoffMax>
        <distortionK1>0.0</distortionK1>
        <distortionK2>0.0</distortionK2>
        <distortionK3>0.0</distortionK3>
        <distortionT1>0.0</distortionT1>
        <distortionT2>0.0</distortionT2>
        <CxPrime>0</CxPrime>
        <Cx>0.0045</Cx>
        <Cy>0.0039</Cy>
        <focalLength>0</focalLength>
        <hackBaseline>0</hackBaseline>
      </plugin>
    </sensor>
  </gazebo>
  <joint name="camera_joint_chin" type="fixed">
    <origin rpy="3.141592653589793 1.5707963267948966 0" xyz="0.2522 0.0125 -0.0436"/>
    <parent link="trunk"/>
    <child link="camera_chin"/>
  </joint>
  <link name="camera_chin">
    <collision>
      <origin rpy="0 0 0" xyz="0 0 0"/>
      <geometry>
        <box size=".001 .001 .001"/>
      </geometry>
    </collision>
    <visual>
      <origin rpy="0 0 0" xyz="0 0 0"/>
      <geometry>
        <!-- <mesh filename="package://go1_description/meshes/depthCamera.dae" scale="1 1 1"/> -->
        <box size=".001 .001 .001"/>
      </geometry>
    </visual>
    <inertial>
      <mass value="1e-5"/>
      <origin rpy="0 0 0" xyz="0 0 0"/>
      <inertia ixx="1e-6" ixy="0" ixz="0" iyy="1e-6" iyz="0" izz="1e-6"/>
    </inertial>
  </link>
  <joint name="camera_optical_joint_chin" type="fixed">
    <origin rpy="-1.5707963267948966 0 -1.5707963267948966" xyz="0 0 0"/>
    <parent link="camera_chin"/>
    <child link="camera_optical_chin"/>
  </joint>
  <link name="camera_optical_chin">
        </link>
  <gazebo reference="camera_chin">
    <!-- <material>Gazebo/Black</material> -->
    <sensor name="camera_chin_camera" type="depth">
      <update_rate>16</update_rate>
      <camera>
        <horizontal_fov>2.094</horizontal_fov>
        <image>
          <width>928</width>
          <height>800</height>
          <format>R8G8B8</format>
        </image>
        <clip>
          <near>0.1</near>
          <far>5</far>
        </clip>
      </camera>
      <plugin filename="libgazebo_ros_openni_kinect.so" name="camera_chin_controller">
        <baseline>0.025</baseline>
        <alwaysOn>true</alwaysOn>
        <updateRate>0.0</updateRate>
        <cameraName>camera_chin_ir</cameraName>
        <imageTopicName>/camera_chin/color/image_raw</imageTopicName>
        <cameraInfoTopicName>/camera_chin/color/camera_info</cameraInfoTopicName>
        <depthImageTopicName>/camera_chin/depth/image_raw</depthImageTopicName>
        <depthImageInfoTopicName>/camera_chin/depth/camera_info</depthImageInfoTopicName>
        <!-- <pointCloudTopicName>/camera_${name}/depth/points</pointCloudTopicName> -->
        <pointCloudTopicName>/cam2/point_cloud_chin</pointCloudTopicName>
        <frameName>camera_optical_chin</frameName>
        <pointCloudCutoff>0.1</pointCloudCutoff>
        <pointCloudCutoffMax>1.5</pointCloudCutoffMax>
        <distortionK1>0.0</distortionK1>
        <distortionK2>0.0</distortionK2>
        <distortionK3>0.0</distortionK3>
        <distortionT1>0.0</distortionT1>
        <distortionT2>0.0</distortionT2>
        <CxPrime>0</CxPrime>
        <Cx>0.0045</Cx>
        <Cy>0.0039</Cy>
        <focalLength>0</focalLength>
        <hackBaseline>0</hackBaseline>
      </plugin>
    </sensor>
  </gazebo>
  <joint name="camera_joint_left" type="fixed">
    <origin rpy="3.141592653589793 0.2618 1.5707963267948966" xyz="-0.066 0.082 -0.0176"/>
    <parent link="trunk"/>
    <child link="camera_left"/>
  </joint>
  <link name="camera_left">
    <collision>
      <origin rpy="0 0 0" xyz="0 0 0"/>
      <geometry>
        <box size=".001 .001 .001"/>
      </geometry>
    </collision>
    <visual>
      <origin rpy="0 0 0" xyz="0 0 0"/>
      <geometry>
        <!-- <mesh filename="package://go1_description/meshes/depthCamera.dae" scale="1 1 1"/> -->
        <box size=".001 .001 .001"/>
      </geometry>
    </visual>
    <inertial>
      <mass value="1e-5"/>
      <origin rpy="0 0 0" xyz="0 0 0"/>
      <inertia ixx="1e-6" ixy="0" ixz="0" iyy="1e-6" iyz="0" izz="1e-6"/>
    </inertial>
  </link>
  <joint name="camera_optical_joint_left" type="fixed">
    <origin rpy="-1.5707963267948966 0 -1.5707963267948966" xyz="0 0 0"/>
    <parent link="camera_left"/>
    <child link="camera_optical_left"/>
  </joint>
  <link name="camera_optical_left">
        </link>
  <gazebo reference="camera_left">
    <!-- <material>Gazebo/Black</material> -->
    <sensor name="camera_left_camera" type="depth">
      <update_rate>16</update_rate>
      <camera>
        <horizontal_fov>2.094</horizontal_fov>
        <image>
          <width>928</width>
          <height>800</height>
          <format>R8G8B8</format>
        </image>
        <clip>
          <near>0.1</near>
          <far>5</far>
        </clip>
      </camera>
      <plugin filename="libgazebo_ros_openni_kinect.so" name="camera_left_controller">
        <baseline>0.025</baseline>
        <alwaysOn>true</alwaysOn>
        <updateRate>0.0</updateRate>
        <cameraName>camera_left_ir</cameraName>
        <imageTopicName>/camera_left/color/image_raw</imageTopicName>
        <cameraInfoTopicName>/camera_left/color/camera_info</cameraInfoTopicName>
        <depthImageTopicName>/camera_left/depth/image_raw</depthImageTopicName>
        <depthImageInfoTopicName>/camera_left/depth/camera_info</depthImageInfoTopicName>
        <!-- <pointCloudTopicName>/camera_${name}/depth/points</pointCloudTopicName> -->
        <pointCloudTopicName>/cam3/point_cloud_left</pointCloudTopicName>
        <frameName>camera_optical_left</frameName>
        <pointCloudCutoff>0.1</pointCloudCutoff>
        <pointCloudCutoffMax>1.5</pointCloudCutoffMax>
        <distortionK1>0.0</distortionK1>
        <distortionK2>0.0</distortionK2>
        <distortionK3>0.0</distortionK3>
        <distortionT1>0.0</distortionT1>
        <distortionT2>0.0</distortionT2>
        <CxPrime>0</CxPrime>
        <Cx>0.0045</Cx>
        <Cy>0.0039</Cy>
        <focalLength>0</focalLength>
        <hackBaseline>0</hackBaseline>
      </plugin>
    </sensor>
  </gazebo>
  <joint name="camera_joint_right" type="fixed">
    <origin rpy="3.141592653589793 0.2618 -1.5707963267948966" xyz="-0.041 -0.082 -0.0176"/>
    <parent link="trunk"/>
    <child link="camera_right"/>
  </joint>
  <link name="camera_right">
    <collision>
      <origin rpy="0 0 0" xyz="0 0 0"/>
      <geometry>
        <box size=".001 .001 .001"/>
      </geometry>
    </collision>
    <visual>
      <origin rpy="0 0 0" xyz="0 0 0"/>
      <geometry>
        <!-- <mesh filename="package://go1_description/meshes/depthCamera.dae" scale="1 1 1"/> -->
        <box size=".001 .001 .001"/>
      </geometry>
    </visual>
    <inertial>
      <mass value="1e-5"/>
      <origin rpy="0 0 0" xyz="0 0 0"/>
      <inertia ixx="1e-6" ixy="0" ixz="0" iyy="1e-6" iyz="0" izz="1e-6"/>
    </inertial>
  </link>
  <joint name="camera_optical_joint_right" type="fixed">
    <origin rpy="-1.5707963267948966 0 -1.5707963267948966" xyz="0 0 0"/>
    <parent link="camera_right"/>
    <child link="camera_optical_right"/>
  </joint>
  <link name="camera_optical_right">
        </link>
  <gazebo reference="camera_right">
    <!-- <material>Gazebo/Black</material> -->
    <sensor name="camera_right_camera" type="depth">
      <update_rate>16</update_rate>
      <camera>
        <horizontal_fov>2.094</horizontal_fov>
        <image>
          <width>928</width>
          <height>800</height>
          <format>R8G8B8</format>
        </image>
        <clip>
          <near>0.1</near>
          <far>5</far>
        </clip>
      </camera>
      <plugin filename="libgazebo_ros_openni_kinect.so" name="camera_right_controller">
        <baseline>0.025</baseline>
        <alwaysOn>true</alwaysOn>
        <updateRate>0.0</updateRate>
        <cameraName>camera_right_ir</cameraName>
        <imageTopicName>/camera_right/color/image_raw</imageTopicName>
        <cameraInfoTopicName>/camera_right/color/camera_info</cameraInfoTopicName>
        <depthImageTopicName>/camera_right/depth/image_raw</depthImageTopicName>
        <depthImageInfoTopicName>/camera_right/depth/camera_info</depthImageInfoTopicName>
        <!-- <pointCloudTopicName>/camera_${name}/depth/points</pointCloudTopicName> -->
        <pointCloudTopicName>/cam4/point_cloud_right</pointCloudTopicName>
        <frameName>camera_optical_right</frameName>
        <pointCloudCutoff>0.1</pointCloudCutoff>
        <pointCloudCutoffMax>1.5</pointCloudCutoffMax>
        <distortionK1>0.0</distortionK1>
        <distortionK2>0.0</distortionK2>
        <distortionK3>0.0</distortionK3>
        <distortionT1>0.0</distortionT1>
        <distortionT2>0.0</distortionT2>
        <CxPrime>0</CxPrime>
        <Cx>0.0045</Cx>
        <Cy>0.0039</Cy>
        <focalLength>0</focalLength>
        <hackBaseline>0</hackBaseline>
      </plugin>
    </sensor>
  </gazebo>
  <joint name="camera_joint_rearDown" type="fixed">
    <origin rpy="3.141592653589793 1.5707963267948966 0" xyz="-0.0825 0.0125 -0.04365"/>
    <parent link="trunk"/>
    <child link="camera_rearDown"/>
  </joint>
  <link name="camera_rearDown">
    <collision>
      <origin rpy="0 0 0" xyz="0 0 0"/>
      <geometry>
        <box size=".001 .001 .001"/>
      </geometry>
    </collision>
    <visual>
      <origin rpy="0 0 0" xyz="0 0 0"/>
      <geometry>
        <!-- <mesh filename="package://go1_description/meshes/depthCamera.dae" scale="1 1 1"/> -->
        <box size=".001 .001 .001"/>
      </geometry>
    </visual>
    <inertial>
      <mass value="1e-5"/>
      <origin rpy="0 0 0" xyz="0 0 0"/>
      <inertia ixx="1e-6" ixy="0" ixz="0" iyy="1e-6" iyz="0" izz="1e-6"/>
    </inertial>
  </link>
  <joint name="camera_optical_joint_rearDown" type="fixed">
    <origin rpy="-1.5707963267948966 0 -1.5707963267948966" xyz="0 0 0"/>
    <parent link="camera_rearDown"/>
    <child link="camera_optical_rearDown"/>
  </joint>
  <link name="camera_optical_rearDown">
        </link>
  <gazebo reference="camera_rearDown">
    <!-- <material>Gazebo/Black</material> -->
    <sensor name="camera_rearDown_camera" type="depth">
      <update_rate>16</update_rate>
      <camera>
        <horizontal_fov>2.094</horizontal_fov>
        <image>
          <width>928</width>
          <height>800</height>
          <format>R8G8B8</format>
        </image>
        <clip>
          <near>0.1</near>
          <far>5</far>
        </clip>
      </camera>
      <plugin filename="libgazebo_ros_openni_kinect.so" name="camera_rearDown_controller">
        <baseline>0.025</baseline>
        <alwaysOn>true</alwaysOn>
        <updateRate>0.0</updateRate>
        <cameraName>camera_rearDown_ir</cameraName>
        <imageTopicName>/camera_rearDown/color/image_raw</imageTopicName>
        <cameraInfoTopicName>/camera_rearDown/color/camera_info</cameraInfoTopicName>
        <depthImageTopicName>/camera_rearDown/depth/image_raw</depthImageTopicName>
        <depthImageInfoTopicName>/camera_rearDown/depth/camera_info</depthImageInfoTopicName>
        <!-- <pointCloudTopicName>/camera_${name}/depth/points</pointCloudTopicName> -->
        <pointCloudTopicName>/cam5/point_cloud_rearDown</pointCloudTopicName>
        <frameName>camera_optical_rearDown</frameName>
        <pointCloudCutoff>0.1</pointCloudCutoff>
        <pointCloudCutoffMax>1.5</pointCloudCutoffMax>
        <distortionK1>0.0</distortionK1>
        <distortionK2>0.0</distortionK2>
        <distortionK3>0.0</distortionK3>
        <distortionT1>0.0</distortionT1>
        <distortionT2>0.0</distortionT2>
        <CxPrime>0</CxPrime>
        <Cx>0.0045</Cx>
        <Cy>0.0039</Cy>
        <focalLength>0</focalLength>
        <hackBaseline>0</hackBaseline>
      </plugin>
    </sensor>
  </gazebo>
  <joint name="camera_laserscan_joint_left" type="fixed">
    <origin rpy="0 0.2618 0" xyz="0 0 0"/>
    <parent link="camera_left"/>
    <child link="camera_laserscan_link_left"/>
  </joint>
  <link name="camera_laserscan_link_left">
    </link>
  <joint name="camera_laserscan_joint_right" type="fixed">
    <origin rpy="0 0.2618 0" xyz="0 0 0"/>
    <parent link="camera_right"/>
    <child link="camera_laserscan_link_right"/>
  </joint>
  <link name="camera_laserscan_link_right">
    </link>
  <joint name="ultraSound_joint_left" type="fixed">
    <origin rpy="0 0.2618 1.5707963267948966" xyz="-0.0535  0.0826 0.00868"/>
    <parent link="trunk"/>
    <child link="ultraSound_left"/>
  </joint>
  <link name="ultraSound_left">
    <collision>
      <origin rpy="0 0 0" xyz="0 0 0"/>
      <geometry>
        <box size=".001 .001 .001"/>
      </geometry>
    </collision>
    <visual>
      <origin rpy="0 0 0" xyz="0 0 0"/>
      <geometry>
        <!-- <mesh filename="package://go1_description/meshes/ultraSound.dae" scale="1 1 1"/> -->
        <box size=".001 .001 .001"/>
      </geometry>
      <material name="black"/>
    </visual>
    <inertial>
      <mass value="1e-5"/>
      <origin rpy="0 0 0" xyz="0 0 0"/>
      <inertia ixx="1e-6" ixy="0" ixz="0" iyy="1e-6" iyz="0" izz="1e-6"/>
    </inertial>
  </link>
  <joint name="ultraSound_joint_right" type="fixed">
    <origin rpy="0 0.2618 -1.5707963267948966" xyz="-0.0535 -0.0826 0.00868"/>
    <parent link="trunk"/>
    <child link="ultraSound_right"/>
  </joint>
  <link name="ultraSound_right">
    <collision>
      <origin rpy="0 0 0" xyz="0 0 0"/>
      <geometry>
        <box size=".001 .001 .001"/>
      </geometry>
    </collision>
    <visual>
      <origin rpy="0 0 0" xyz="0 0 0"/>
      <geometry>
        <!-- <mesh filename="package://go1_description/meshes/ultraSound.dae" scale="1 1 1"/> -->
        <box size=".001 .001 .001"/>
      </geometry>
      <material name="black"/>
    </visual>
    <inertial>
      <mass value="1e-5"/>
      <origin rpy="0 0 0" xyz="0 0 0"/>
      <inertia ixx="1e-6" ixy="0" ixz="0" iyy="1e-6" iyz="0" izz="1e-6"/>
    </inertial>
  </link>
  <joint name="ultraSound_joint_face" type="fixed">
    <origin rpy="0 0 0" xyz="0.2747 0.0 -0.0088"/>
    <parent link="trunk"/>
    <child link="ultraSound_face"/>
  </joint>
  <link name="ultraSound_face">
    <collision>
      <origin rpy="0 0 0" xyz="0 0 0"/>
      <geometry>
        <box size=".001 .001 .001"/>
      </geometry>
    </collision>
    <visual>
      <origin rpy="0 0 0" xyz="0 0 0"/>
      <geometry>
        <!-- <mesh filename="package://go1_description/meshes/ultraSound.dae" scale="1 1 1"/> -->
        <box size=".001 .001 .001"/>
      </geometry>
      <material name="black"/>
    </visual>
    <inertial>
      <mass value="1e-5"/>
      <origin rpy="0 0 0" xyz="0 0 0"/>
      <inertia ixx="1e-6" ixy="0" ixz="0" iyy="1e-6" iyz="0" izz="1e-6"/>
    </inertial>
  </link>
</robot>
